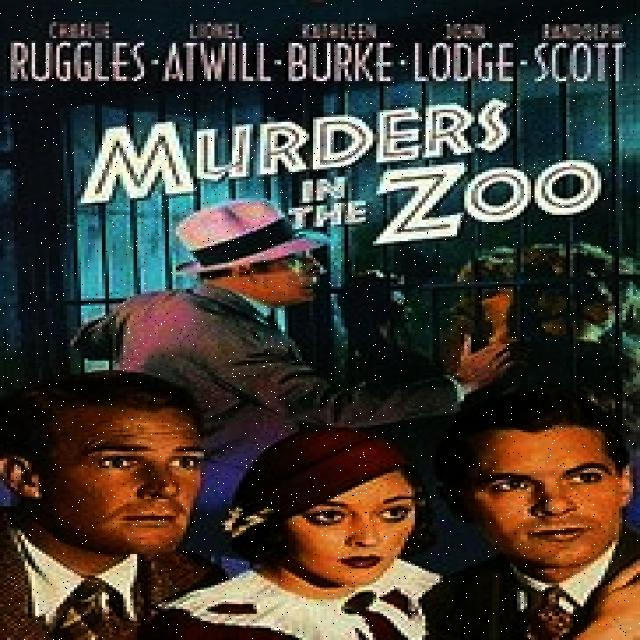movie-judul: (85, 98, 620, 250)
picture: (12, 203, 640, 640)
